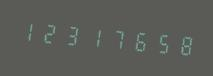eight: (171, 25, 192, 63)
five: (149, 23, 170, 61)
one: (17, 12, 38, 49), (83, 18, 104, 55)
seven: (105, 19, 126, 57)
six: (127, 21, 148, 59)
three: (61, 16, 82, 53)
two: (39, 14, 60, 51)
